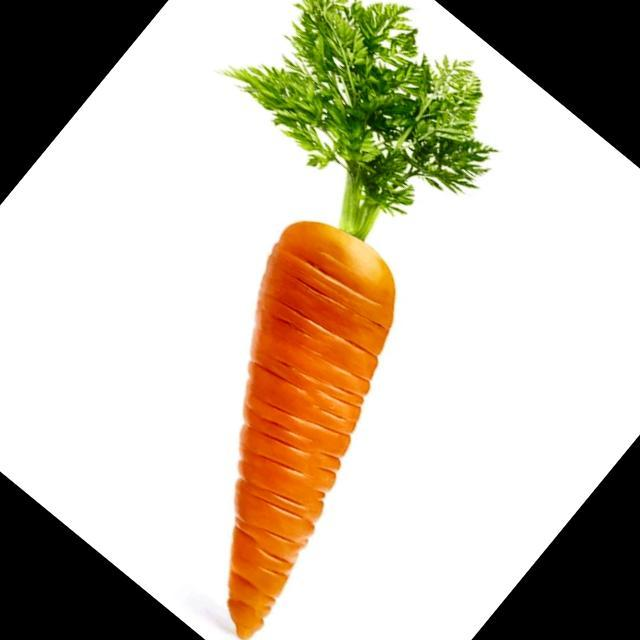carrot: (226, 0, 494, 638)
